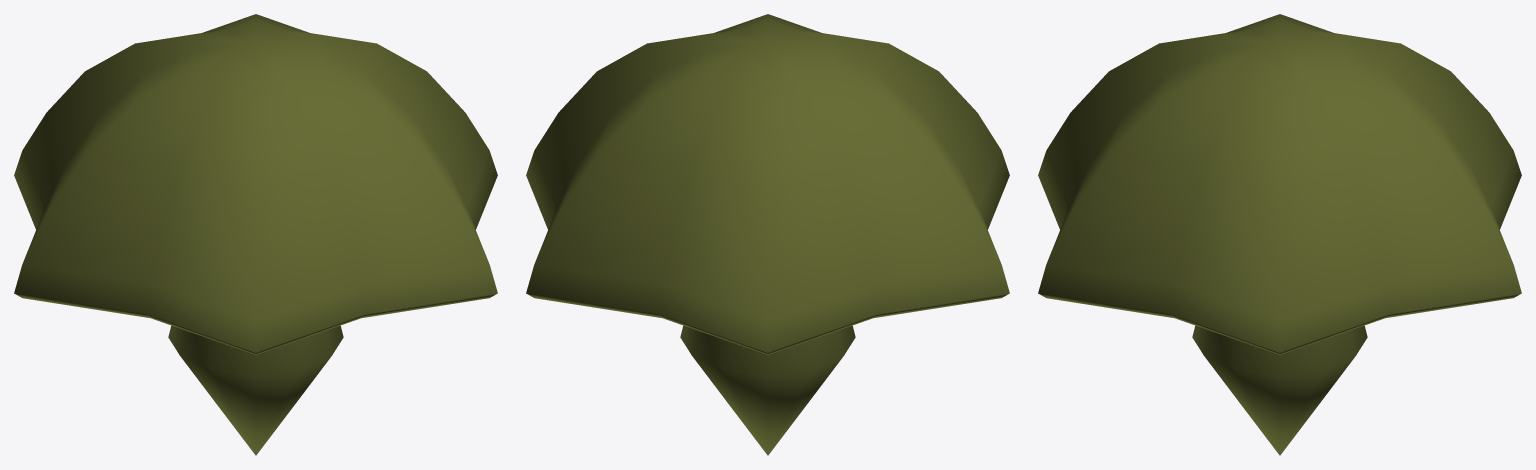
The model's file is Mushroom.fbx.
The picture shows the model from 3 angles, left to right: view 1: azimuth 30°, elevation 25°; view 2: azimuth 150°, elevation 25°; view 3: azimuth 270°, elevation 25°; orthographic projection.
Visible parts, largest first — view 1: Mushroom; view 2: Mushroom; view 3: Mushroom.
Part boxes in pixels (left/top/right/bottom): Mushroom: left=14, top=14, right=497, bottom=455; Mushroom: left=526, top=14, right=1009, bottom=455; Mushroom: left=1038, top=14, right=1521, bottom=455.
Size of the model in its own units: 0.3937 by 0.3197 by 0.341.
